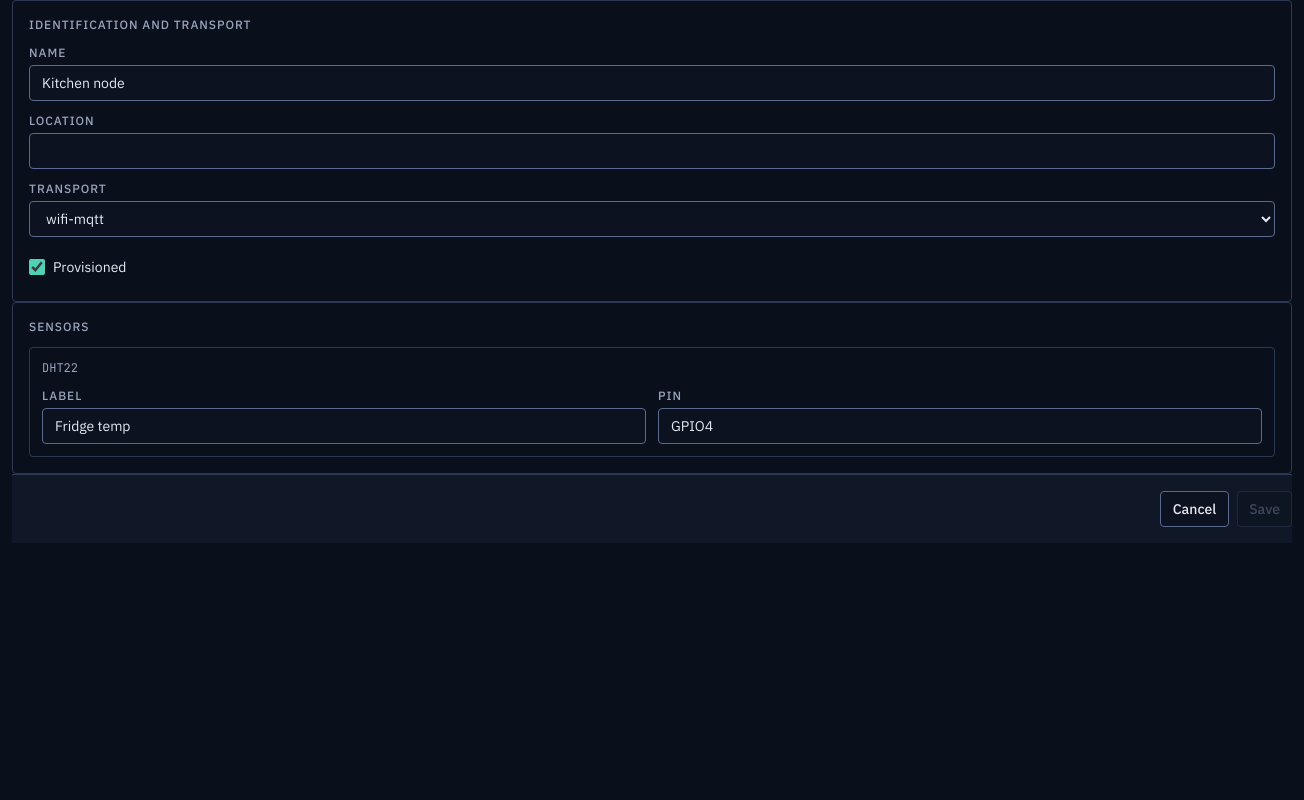
Scenario: DeviceConfigContainer › shows an error on the sensor form when its update fails
Replace the text in the field labelled "Label" with "Freezer temp" at [344, 426], box [42,408,646,444]
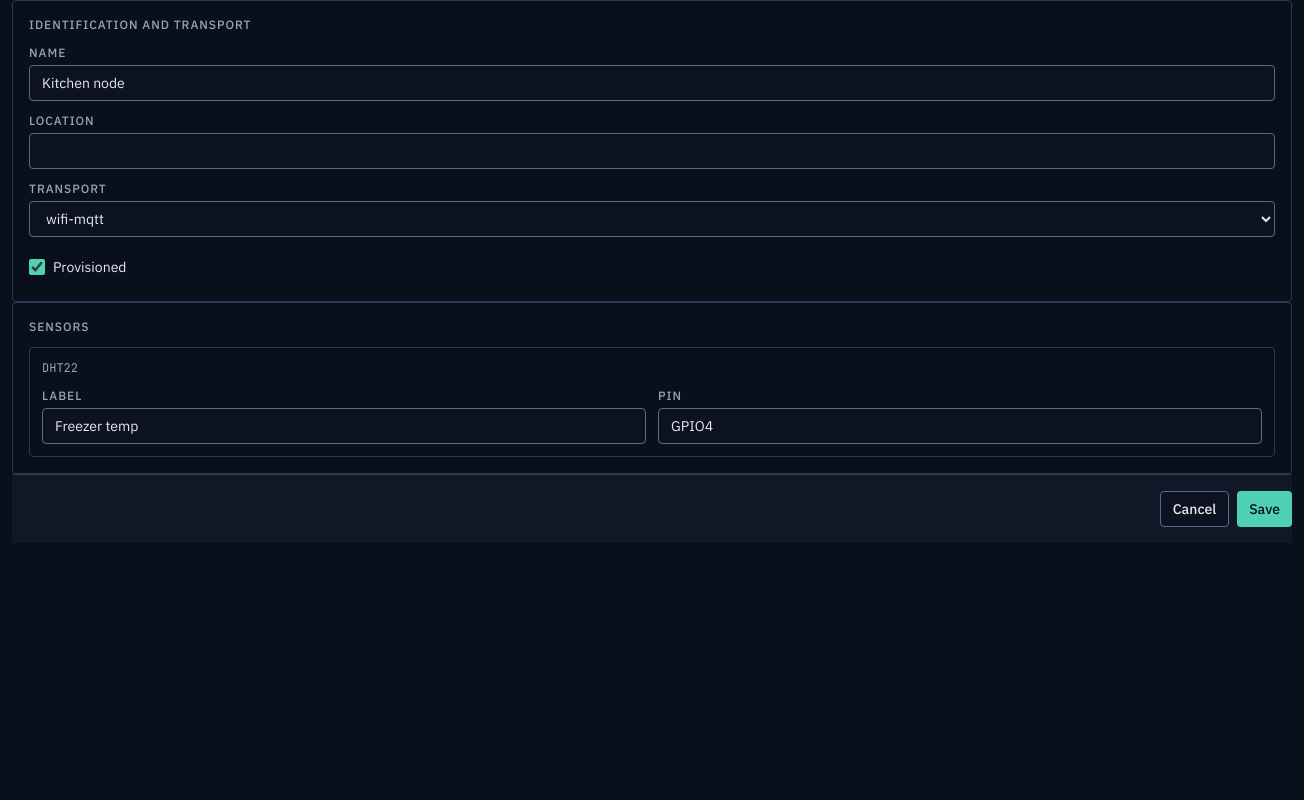
Click the button "Save".
click(1265, 509)  # box [1237,491,1292,527]
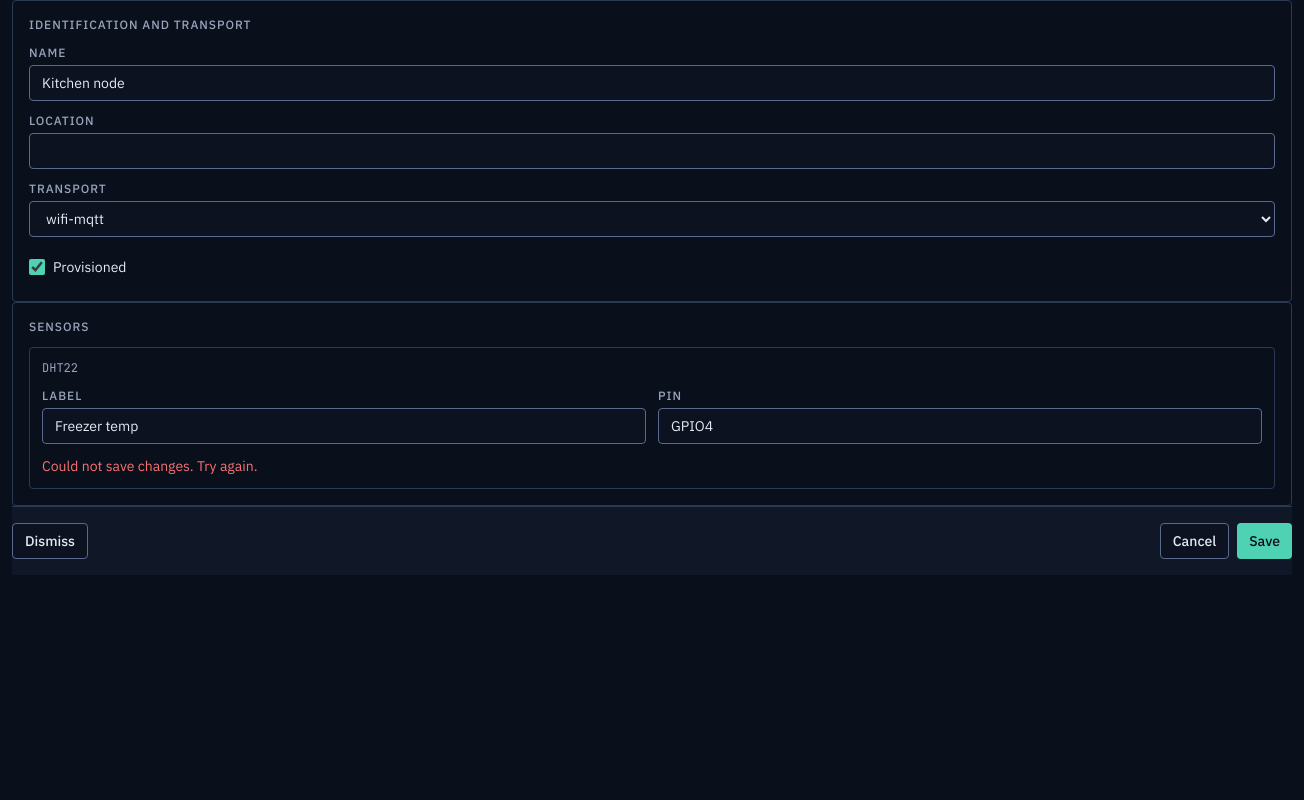
Expected: the number of messages is 1, [42,457,258,475]
Expected: the message reads "Could not save changes. Try again.", [42,457,258,475]
